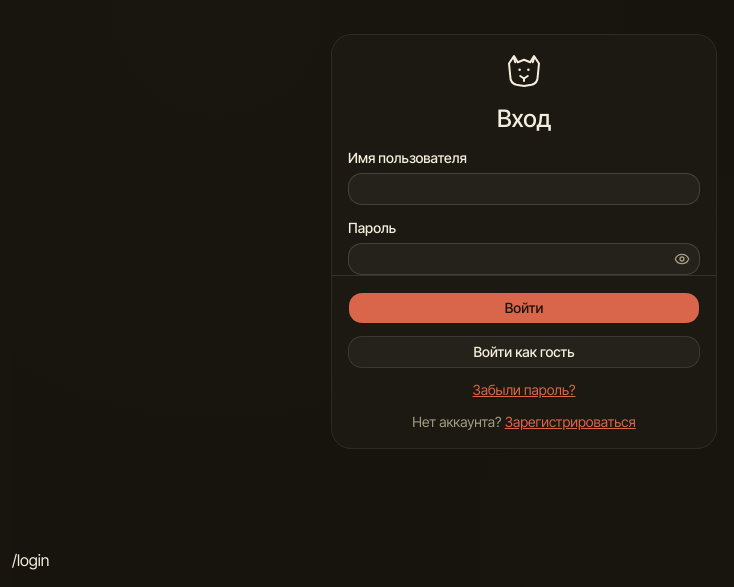
Test: LoginPage › при другой ошибке показывает сообщение сервера
Type "nikita" into the field labelled "Имя пользователя" at coordinates (524, 189), box x1=348 y1=173 x2=700 y2=205
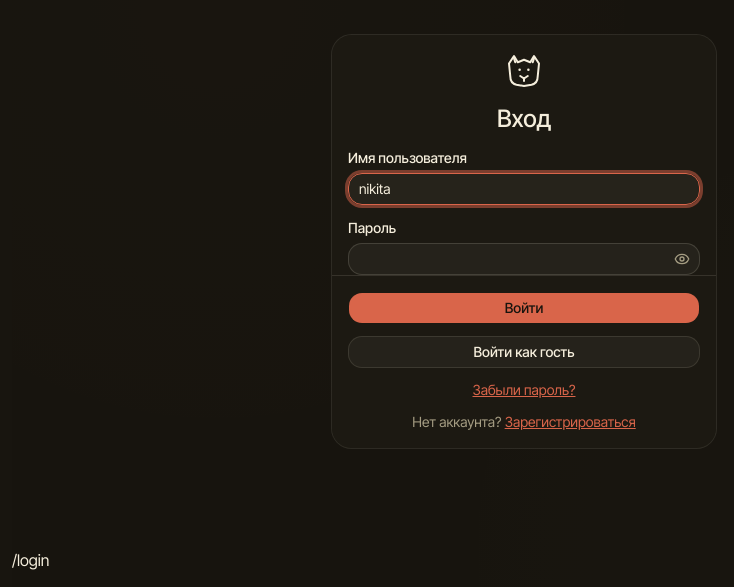
Type "secret123" into the password field labelled "Пароль" at coordinates (524, 259), box x1=348 y1=243 x2=700 y2=275
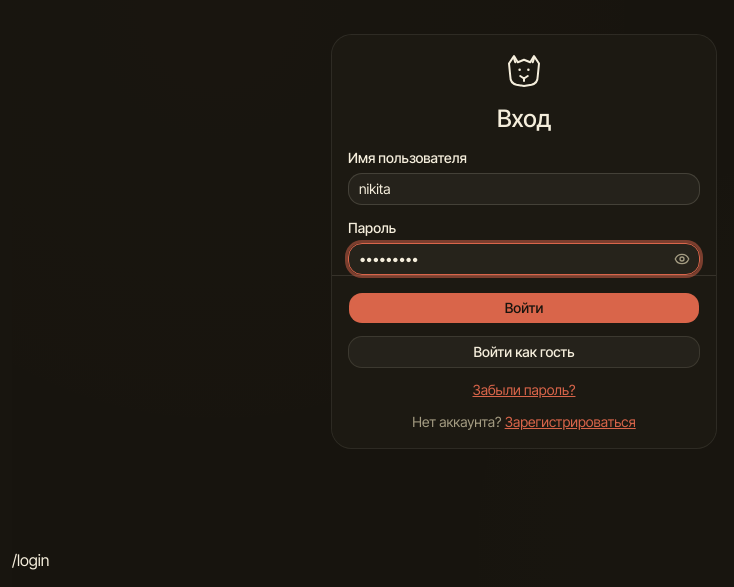
Click the button "Войти" at coordinates (524, 308), box x1=348 y1=292 x2=700 y2=324
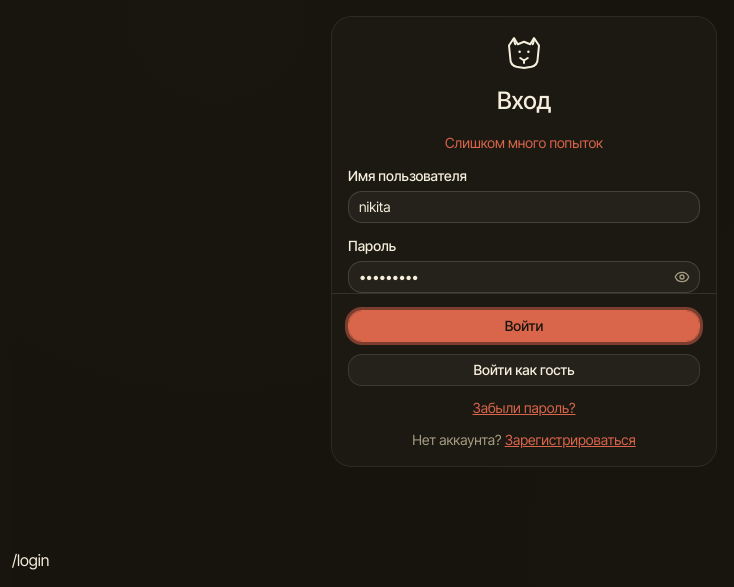
Expected: the text "Слишком много попыток" is shown, x1=445 y1=134 x2=603 y2=151
